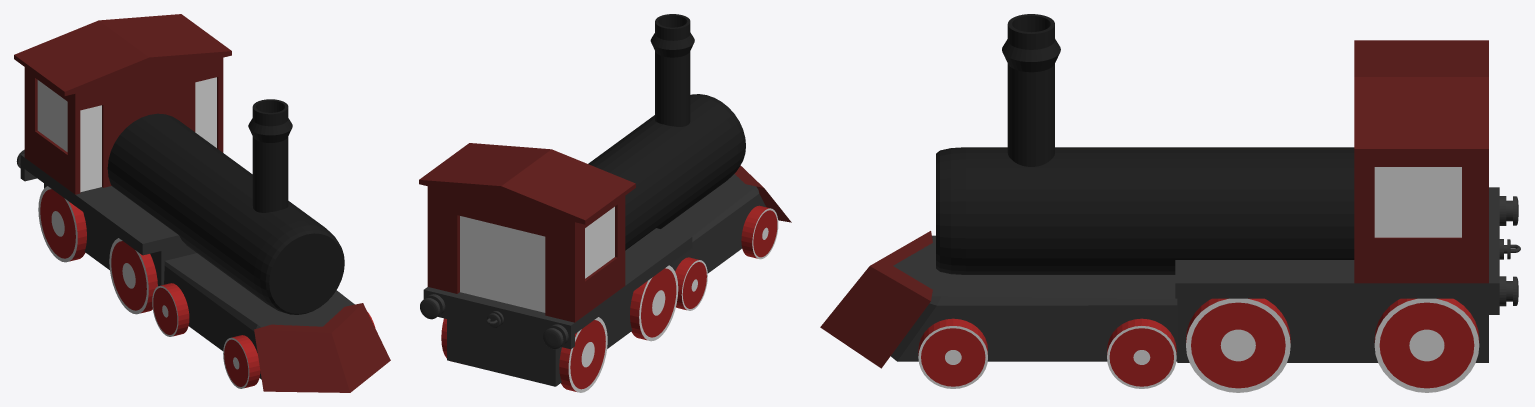
The model's file is Train 1.fbx.
3 renders of one model, left to right at view 1: azimuth 30°, elevation 25°; view 2: azimuth 150°, elevation 25°; view 3: azimuth 270°, elevation 25°, orthographic. The views are drawn at different scales.
Parts seen in each view (by area): view 1: Train 1; view 2: Train 1; view 3: Train 1.
Part boxes in pixels (bbox=[...]): Train 1: bbox=[14, 14, 390, 392]; Train 1: bbox=[419, 14, 791, 392]; Train 1: bbox=[820, 14, 1520, 392].
Size of the model in its own units: 401 by 564 by 1095.
